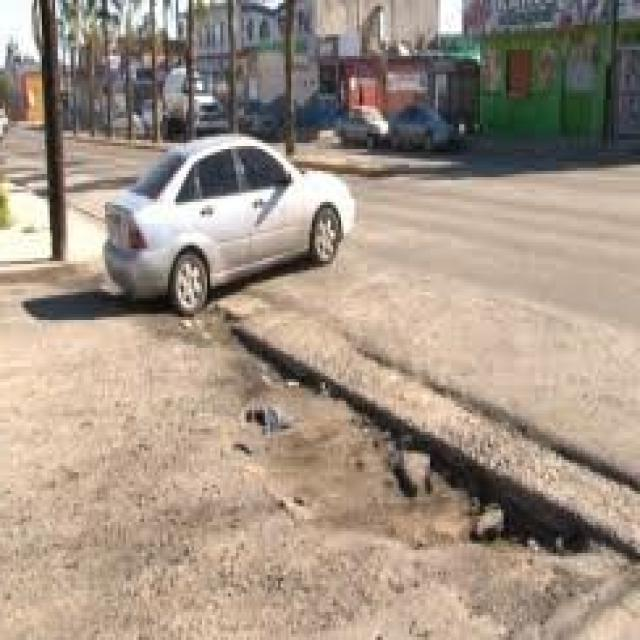pothole: (87, 342, 575, 603)
